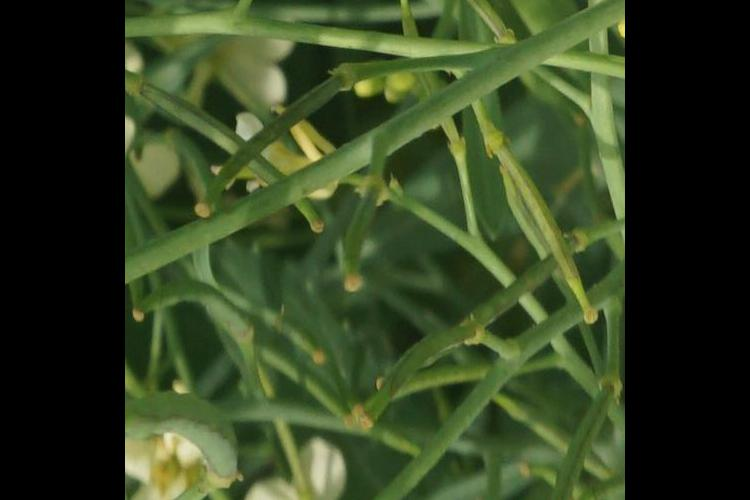pod: (192, 54, 354, 213), (490, 105, 592, 348), (373, 1, 457, 174), (144, 256, 278, 361), (350, 339, 463, 445), (241, 278, 340, 384), (342, 1, 536, 55), (334, 141, 393, 315)
white: (140, 377, 217, 500), (231, 454, 342, 500)
